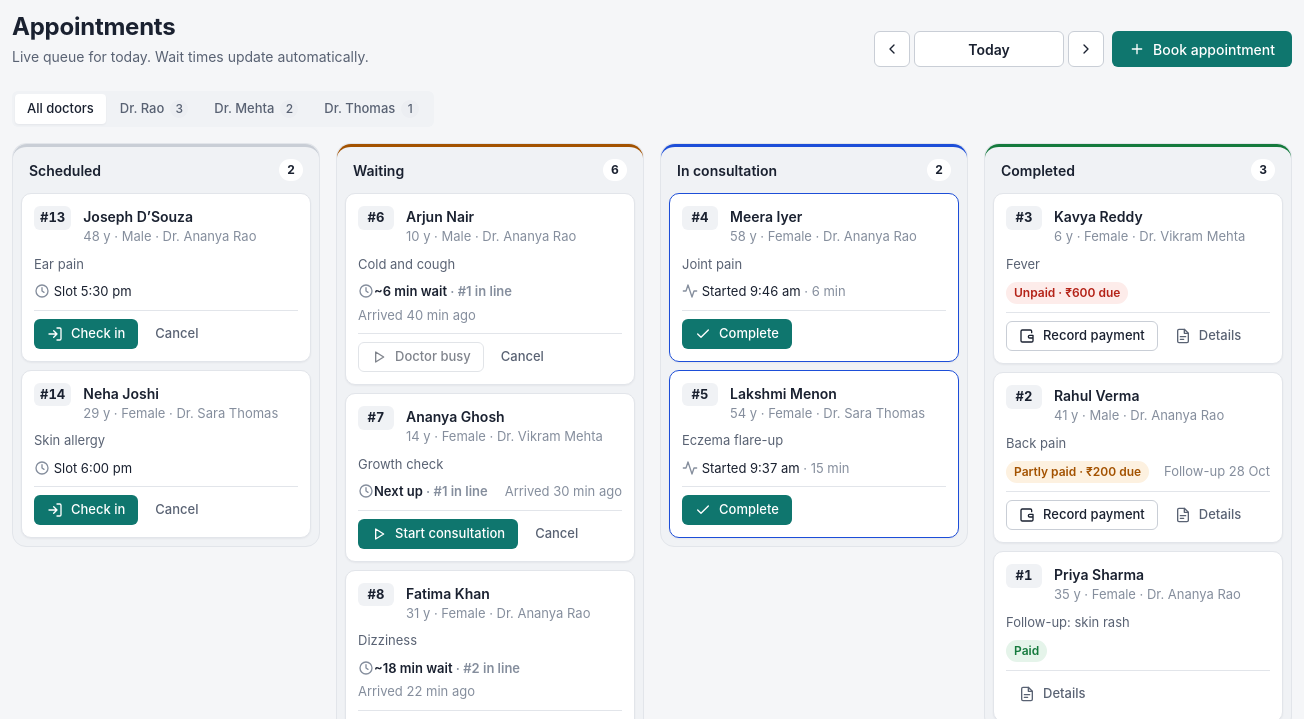
AppointmentsPage › filters the board by doctor
Click the button "Dr. Thomas 1": (372, 109) 312,94 -> 431,124
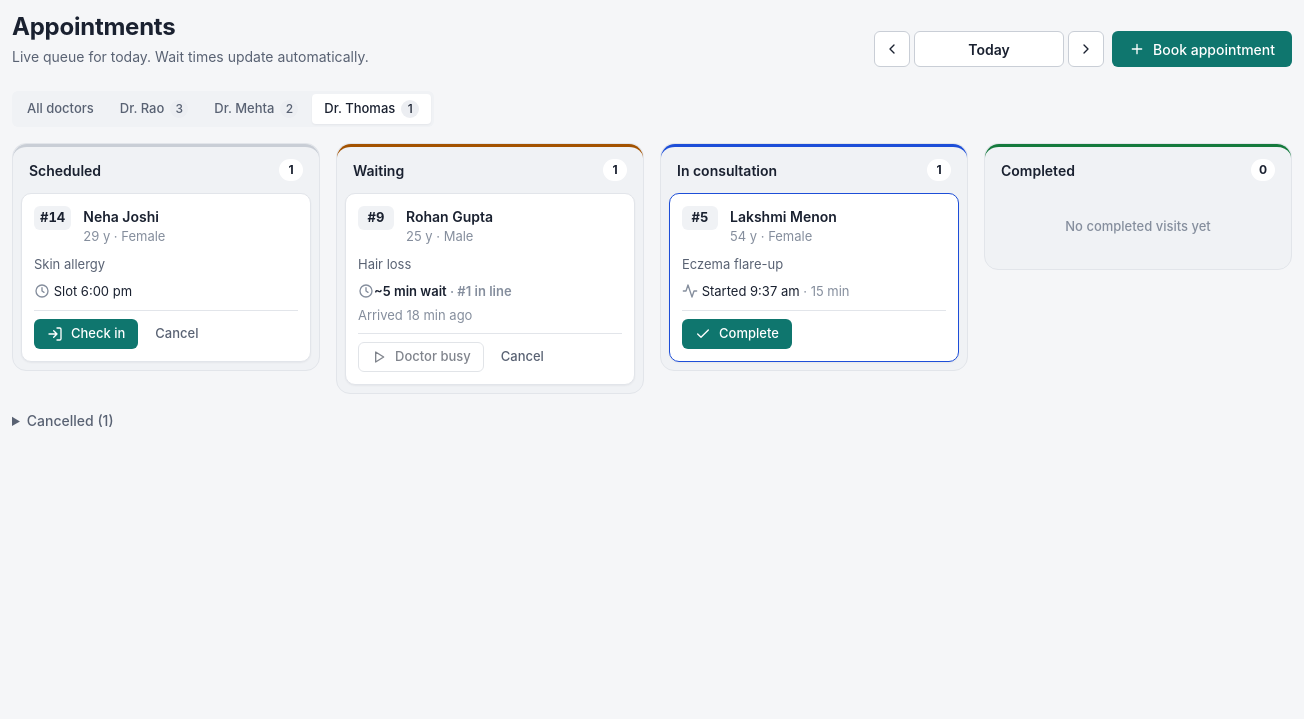
Expected: the button "Rohan Gupta" is shown, 406,206 -> 493,227
Expected: the button "Arjun Nair" is gone
